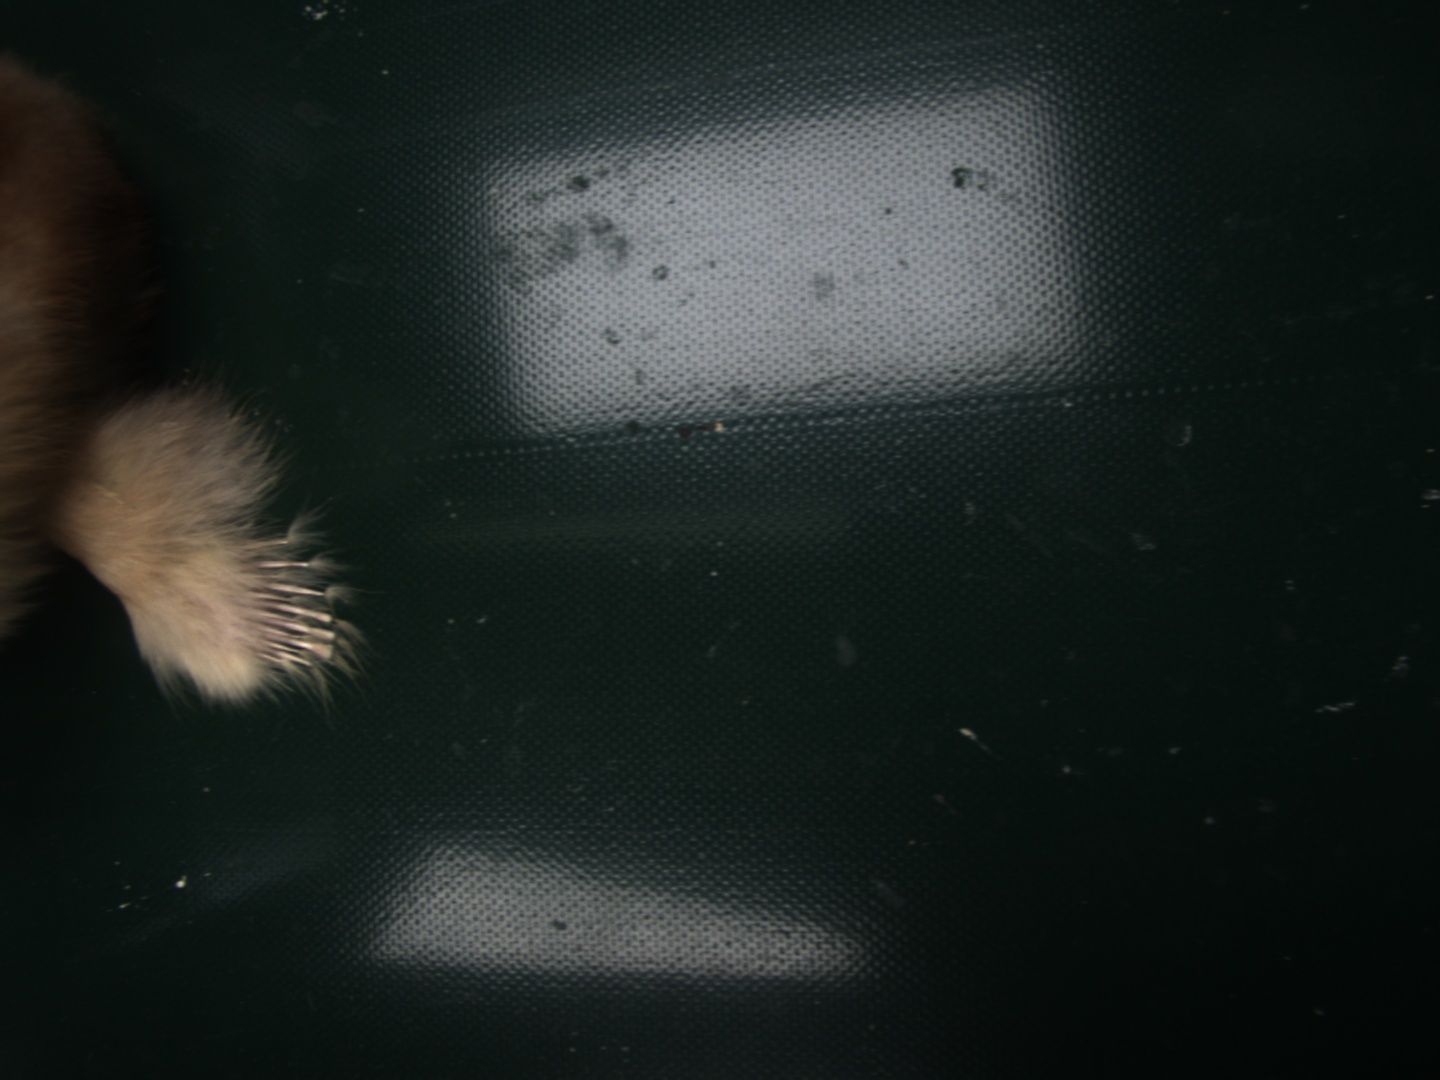female: (230, 535, 336, 677)
